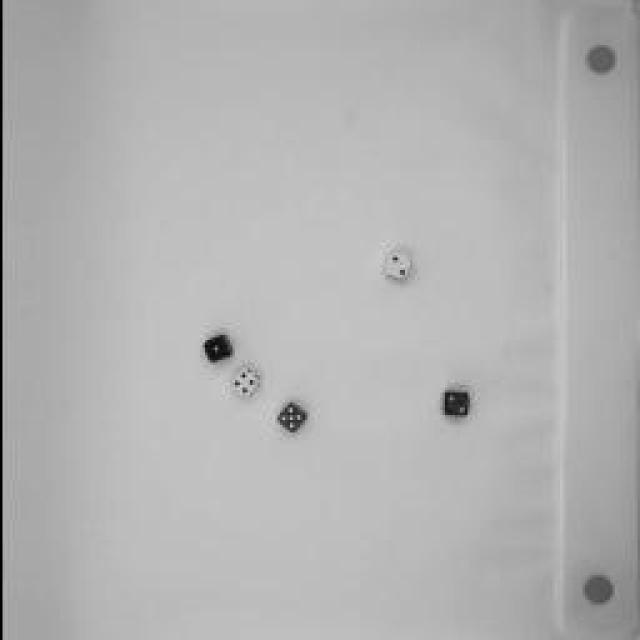dice_1: (195, 332, 230, 366)
dice_2: (430, 380, 475, 425), (375, 245, 415, 285)
dice_4: (225, 364, 260, 404)
dice_5: (268, 395, 308, 437)
